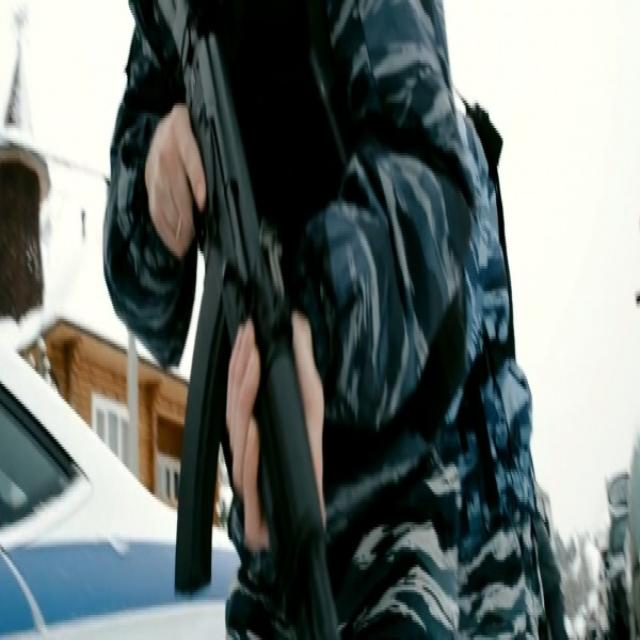rifle: (175, 16, 341, 640)
